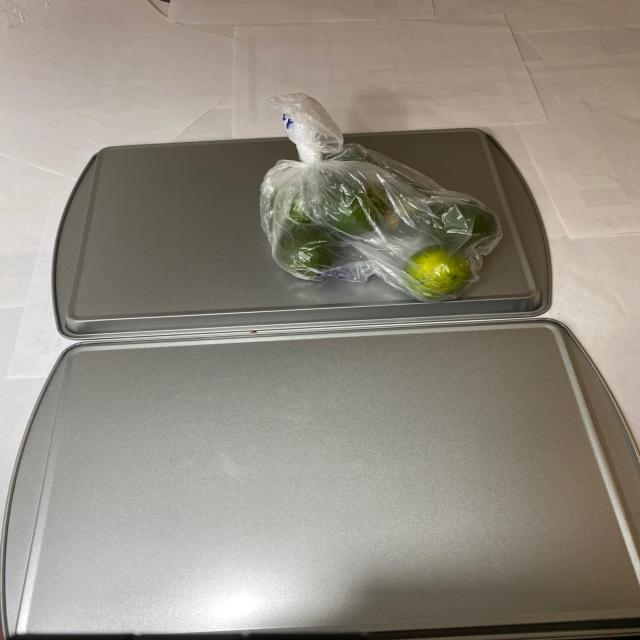lemon: (255, 150, 501, 296)
